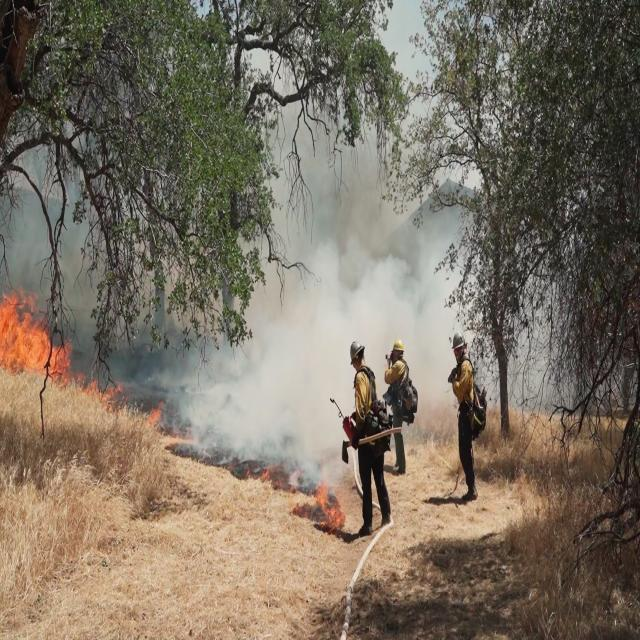Fire: (0, 282, 77, 374), (76, 364, 130, 420)
Smoke: (181, 104, 458, 478)
